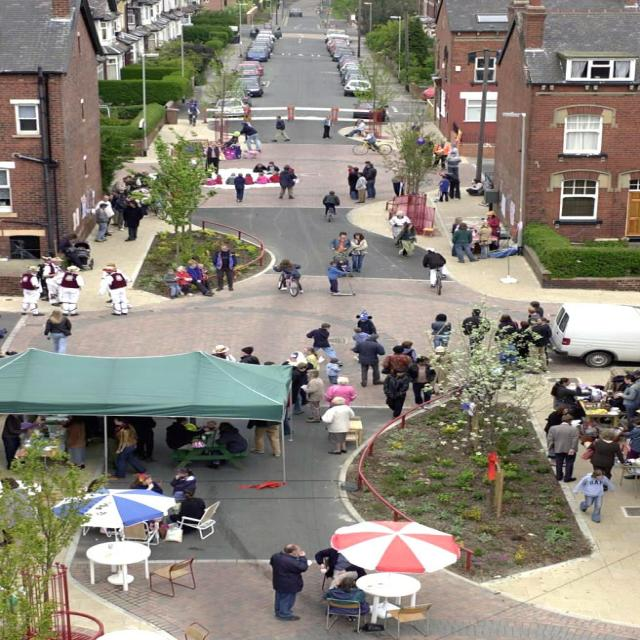body: (107, 171, 173, 233), (268, 542, 312, 622), (18, 414, 128, 442), (582, 428, 626, 492), (108, 416, 150, 482), (570, 467, 618, 524), (544, 412, 582, 483), (0, 476, 36, 548), (319, 576, 372, 623), (314, 547, 369, 591), (319, 395, 356, 456), (205, 421, 249, 470), (0, 413, 35, 471), (350, 332, 386, 387), (50, 264, 86, 318), (542, 403, 572, 467), (304, 322, 346, 367), (492, 323, 530, 372), (168, 488, 207, 535), (404, 355, 437, 410), (96, 265, 130, 317), (163, 416, 212, 451), (522, 317, 550, 375), (382, 367, 411, 421), (16, 264, 46, 316), (614, 374, 640, 432), (425, 344, 453, 396), (63, 414, 89, 470), (245, 419, 282, 458), (460, 309, 490, 357), (43, 309, 74, 355), (299, 369, 325, 423), (211, 244, 239, 291), (449, 222, 480, 264), (550, 376, 586, 412), (130, 415, 158, 461), (182, 258, 215, 297), (272, 258, 306, 295), (41, 256, 65, 308), (285, 362, 308, 416), (56, 232, 86, 270), (379, 344, 414, 376), (323, 376, 358, 408), (262, 349, 310, 372), (421, 246, 447, 288), (168, 467, 198, 503), (426, 312, 453, 350), (388, 209, 414, 248), (93, 194, 116, 237), (392, 222, 418, 259), (121, 199, 143, 242), (325, 260, 352, 295), (35, 254, 54, 302), (348, 232, 370, 273), (620, 416, 640, 460), (235, 122, 263, 153), (537, 316, 554, 366), (130, 472, 165, 496), (0, 315, 19, 358), (493, 313, 520, 341), (112, 192, 131, 231), (475, 220, 494, 259), (277, 166, 298, 200), (483, 210, 500, 251), (174, 265, 195, 297), (354, 308, 378, 336), (203, 141, 222, 176), (93, 202, 109, 243), (269, 115, 292, 143), (162, 268, 181, 300), (194, 262, 214, 292), (430, 139, 448, 171), (330, 231, 352, 257), (276, 408, 295, 437), (450, 216, 463, 258), (353, 172, 370, 204), (301, 346, 321, 373), (442, 172, 461, 200), (364, 162, 378, 200), (346, 166, 361, 200), (210, 344, 238, 362), (445, 150, 462, 178), (321, 191, 340, 216), (325, 358, 343, 384), (435, 174, 451, 203), (399, 341, 419, 364), (344, 119, 367, 138), (83, 477, 106, 496), (232, 172, 246, 203), (445, 142, 459, 172), (606, 392, 627, 412), (523, 316, 542, 338), (238, 346, 261, 364), (351, 327, 373, 345), (391, 175, 408, 198), (362, 130, 381, 150), (110, 189, 120, 226), (185, 102, 201, 125), (465, 178, 485, 196), (279, 164, 298, 181), (611, 375, 629, 392), (100, 262, 123, 275), (528, 301, 545, 318), (260, 160, 280, 174), (322, 115, 333, 140), (335, 256, 352, 272), (421, 135, 435, 154), (197, 421, 218, 432), (254, 172, 272, 184), (628, 367, 640, 384), (224, 172, 238, 186), (241, 173, 256, 186), (526, 306, 541, 319), (360, 161, 372, 177), (105, 302, 132, 309), (251, 162, 267, 173), (269, 170, 282, 183), (411, 120, 422, 132), (187, 96, 199, 106), (346, 163, 356, 175), (252, 26, 260, 38), (275, 27, 281, 40)
